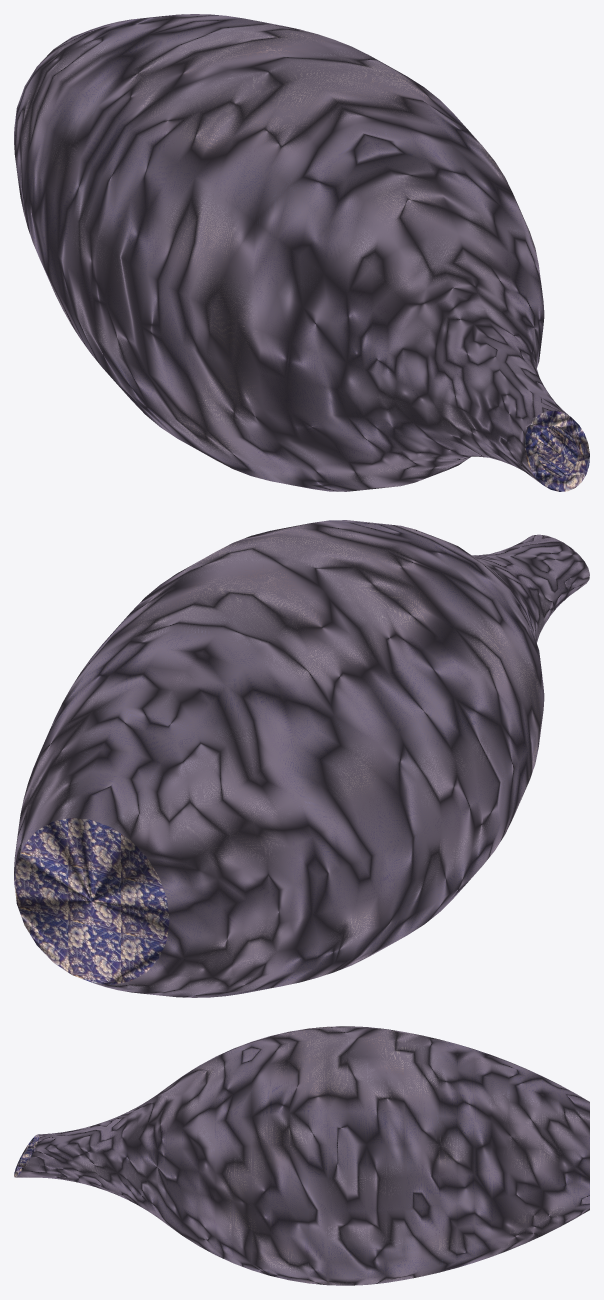
Rendered from model_align.obj.
3 views of the same model, one above another, from view 1: azimuth 30°, elevation 25°; view 2: azimuth 150°, elevation 25°; view 3: azimuth 270°, elevation 25° (orthographic). The views are drawn at different scales.
Size of the model in its own units: 0.0656 by 0.0656 by 0.145.
